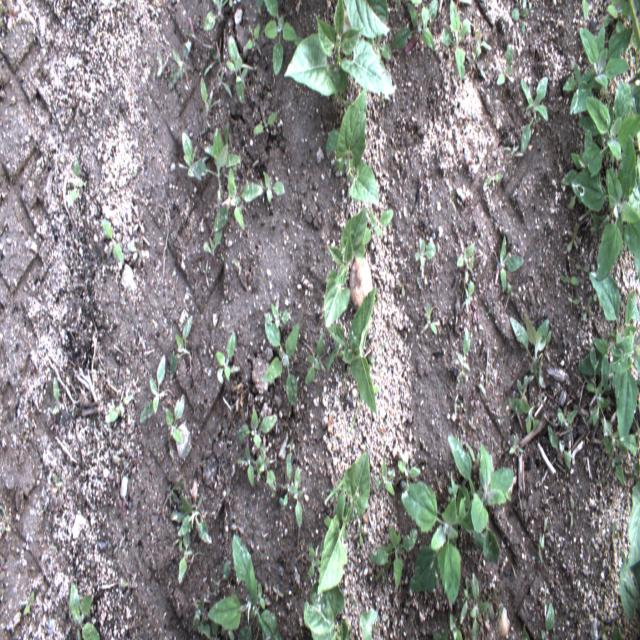crop: (284, 0, 397, 96), (578, 270, 640, 443), (318, 451, 370, 596), (325, 84, 380, 208), (326, 286, 379, 414), (325, 206, 367, 326), (304, 582, 378, 640), (618, 478, 640, 622), (343, 0, 391, 37)
weed: (562, 134, 639, 278), (448, 434, 513, 563), (208, 536, 283, 639), (401, 482, 460, 602), (571, 80, 639, 175), (568, 23, 635, 116), (188, 121, 244, 208), (509, 315, 551, 407), (212, 168, 263, 232), (369, 524, 418, 588), (262, 320, 299, 404), (256, 0, 296, 76), (441, 0, 472, 84), (140, 353, 175, 423), (170, 494, 212, 552), (392, 0, 438, 51), (225, 35, 257, 105), (520, 77, 548, 153), (508, 376, 540, 436), (587, 346, 610, 426), (494, 234, 524, 295), (237, 408, 278, 452), (69, 582, 100, 640), (204, 41, 232, 99), (170, 314, 192, 380), (433, 598, 468, 639), (449, 325, 471, 389), (165, 394, 185, 460), (469, 574, 489, 640), (362, 200, 393, 242), (602, 0, 638, 35), (189, 596, 218, 638), (234, 445, 263, 487), (168, 42, 192, 90), (602, 435, 624, 487), (397, 449, 422, 494), (547, 425, 571, 468), (562, 59, 594, 91), (102, 220, 125, 264), (304, 332, 323, 385), (162, 478, 185, 521), (216, 332, 235, 384), (280, 453, 298, 507), (203, 1, 234, 32), (601, 418, 628, 453), (205, 559, 231, 595), (66, 157, 84, 207), (456, 236, 474, 286), (415, 236, 436, 278), (618, 431, 639, 473), (258, 170, 285, 202), (364, 30, 392, 60), (105, 394, 134, 422), (258, 446, 276, 490), (373, 460, 395, 496), (511, 0, 533, 36), (181, 131, 198, 175), (200, 78, 220, 115), (178, 533, 192, 585), (346, 388, 361, 436), (496, 44, 514, 84), (263, 304, 290, 329), (203, 226, 224, 258), (292, 467, 303, 528), (369, 336, 388, 369), (252, 112, 278, 135), (420, 302, 438, 335), (540, 602, 554, 639), (246, 21, 261, 55), (474, 29, 491, 59), (52, 376, 65, 414), (557, 407, 578, 430), (466, 442, 481, 474), (538, 517, 548, 565), (352, 522, 369, 548), (374, 559, 391, 585), (308, 544, 320, 579), (567, 222, 579, 254), (19, 591, 34, 616), (582, 294, 595, 322), (509, 432, 525, 454), (484, 170, 503, 188), (460, 577, 473, 603), (503, 141, 525, 156), (465, 280, 474, 314), (127, 242, 143, 261), (596, 621, 610, 639), (258, 582, 266, 610), (220, 626, 235, 640), (272, 584, 283, 602), (612, 623, 624, 639), (612, 521, 618, 553), (568, 288, 580, 304), (574, 264, 590, 276), (0, 557, 8, 580), (559, 276, 581, 284), (581, 0, 589, 21), (569, 498, 574, 528), (521, 624, 530, 640), (399, 276, 406, 296), (4, 0, 12, 15), (0, 4, 4, 26), (593, 290, 598, 301)
